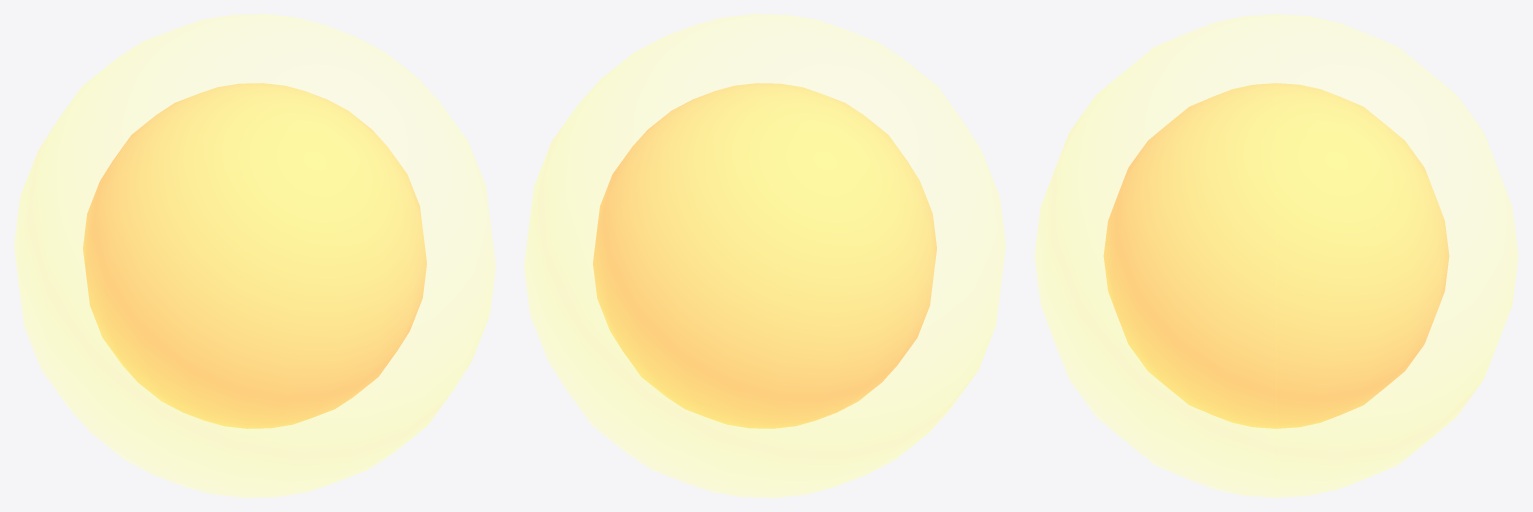
File: blast_circle.glb
The picture shows the model from 3 angles, left to right: view 1: azimuth 30°, elevation 25°; view 2: azimuth 150°, elevation 25°; view 3: azimuth 270°, elevation 25°; orthographic projection.
Bounding box in the file's own units: 2.1 × 2.1 × 2.1.
